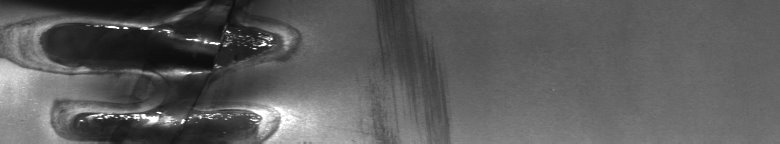ke: (4, 4, 304, 136)
